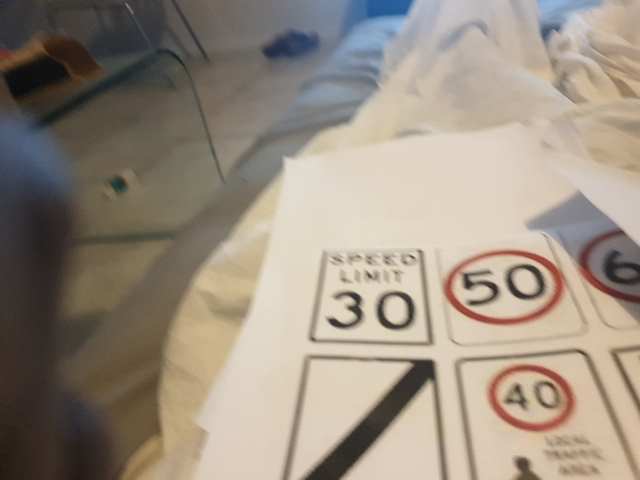sp30: (318, 285, 419, 340)
sp40: (480, 356, 594, 438)
sp50: (442, 250, 568, 323)
